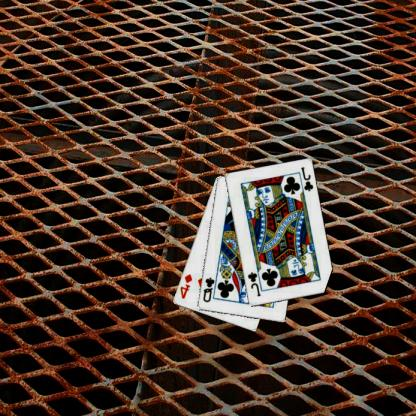4D: (179, 272, 195, 300)
JC: (247, 270, 263, 298), (300, 165, 316, 192)
QC: (202, 275, 217, 303)
